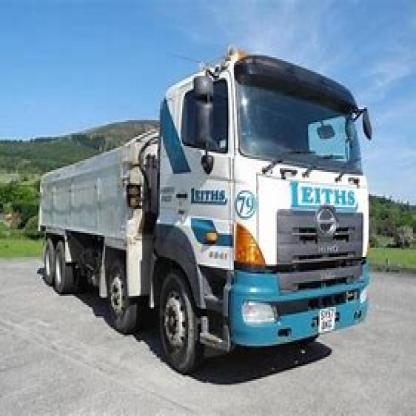dump_truck: (31, 48, 370, 375)
